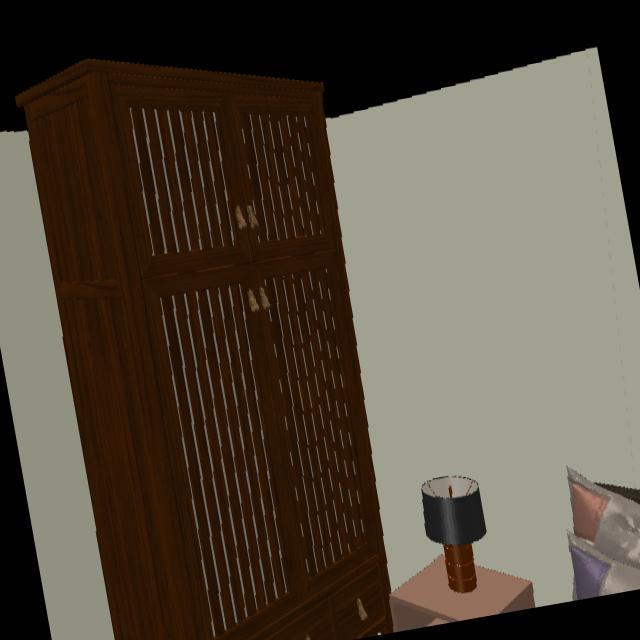lamp: (420, 476, 488, 595)
nighttable: (390, 559, 536, 632)
pillow: (569, 469, 640, 599)
wardrobe: (14, 60, 393, 640)
